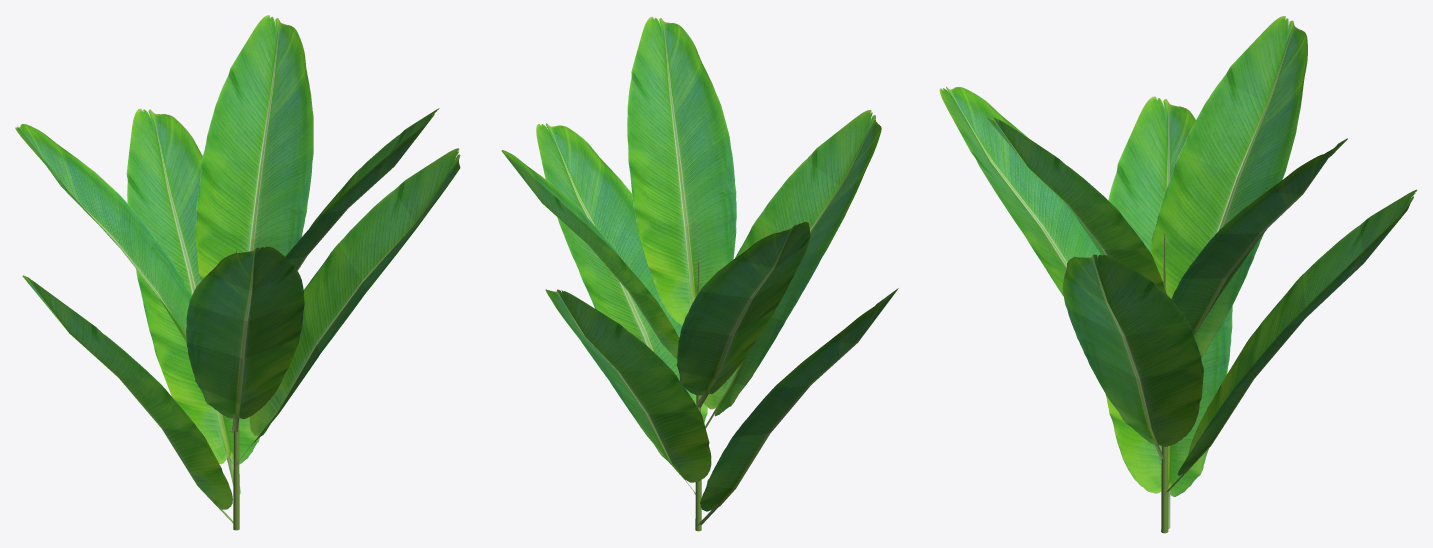
File: Plant3.fbx
3 renders of one model, left to right at view 1: azimuth 30°, elevation 25°; view 2: azimuth 150°, elevation 25°; view 3: azimuth 270°, elevation 25°, orthographic. The views are drawn at different scales.
Parts seen in each view (by area): view 1: BananaLeaf, Stem.003; view 2: BananaLeaf; view 3: BananaLeaf, Stem.003.
Part boxes in pixels (x1,y1,x2,y2): BananaLeaf: [15, 15, 460, 523]; Stem.003: [233, 250, 239, 530]; BananaLeaf: [501, 16, 898, 528]; BananaLeaf: [939, 16, 1417, 529]; Stem.003: [1161, 233, 1168, 533].
Size of the model in its own units: 1148 by 1206 by 1098.
